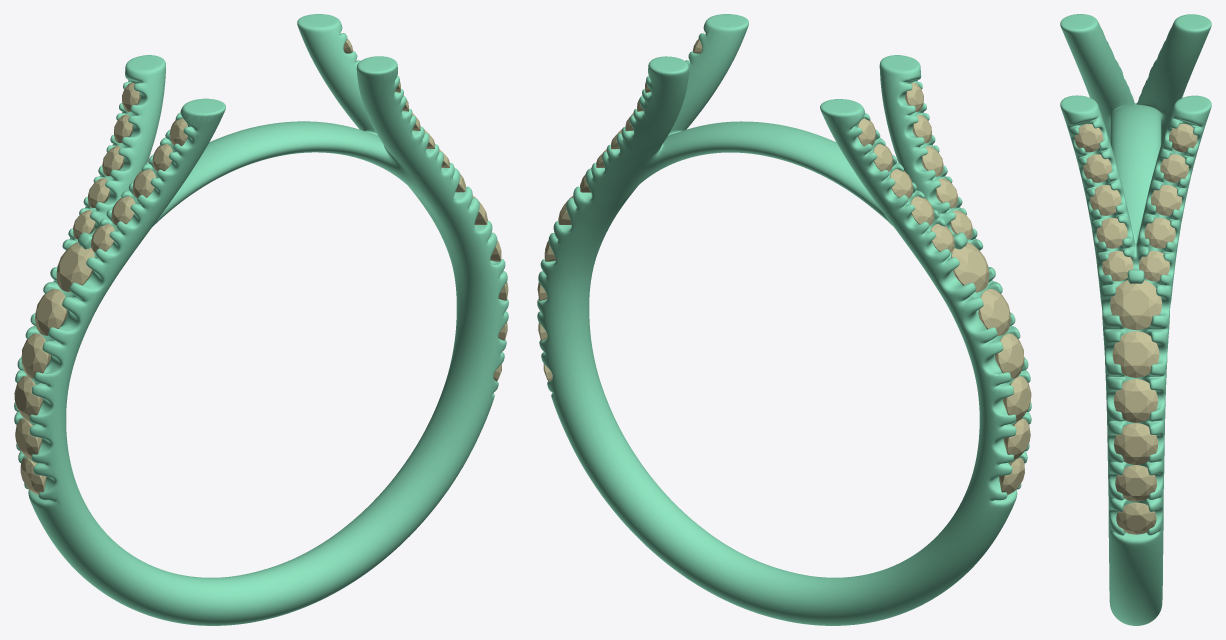
3 views of the same model, side by side, from view 1: azimuth 30°, elevation 25°; view 2: azimuth 150°, elevation 25°; view 3: azimuth 270°, elevation 25° (orthographic). The views are drawn at different scales.
Visible parts, largest first — view 1: Metal02, Diamond_Gem.005, Diamond_Gem.006, Diamond_Gem.007, Diamond_Gem.008, Diamond_Gem.009; view 2: Metal02, Diamond_Gem.005, Diamond_Gem.006, Diamond_Gem.007, Diamond_Gem.008, Diamond_Gem.009; view 3: Metal02, Diamond_Gem.026, Diamond_Gem.025, Diamond_Gem.024, Diamond_Gem.023, Diamond_Gem.022, Diamond_Gem.021, Diamond_Gem.017, Diamond_Gem.030, Diamond_Gem.018, Diamond_Gem.029, Diamond_Gem.016 (+5 smaller).
Boxes of the visible parts, <box> form: Metal02: <box>14,14,508,625</box>; Diamond_Gem.005: <box>56,242,94,291</box>; Diamond_Gem.006: <box>35,288,67,335</box>; Diamond_Gem.007: <box>21,333,50,378</box>; Diamond_Gem.008: <box>14,376,42,421</box>; Diamond_Gem.009: <box>15,418,41,459</box>; Metal02: <box>537,14,1031,625</box>; Diamond_Gem.005: <box>951,242,989,292</box>; Diamond_Gem.006: <box>978,289,1010,335</box>; Diamond_Gem.007: <box>995,333,1024,378</box>; Diamond_Gem.008: <box>1003,376,1031,421</box>; Diamond_Gem.009: <box>1003,418,1030,459</box>; Metal02: <box>1060,14,1211,625</box>; Diamond_Gem.026: <box>1110,280,1161,329</box>; Diamond_Gem.025: <box>1112,331,1159,377</box>; Diamond_Gem.024: <box>1114,379,1157,422</box>; Diamond_Gem.023: <box>1114,423,1158,464</box>; Diamond_Gem.022: <box>1115,465,1156,501</box>; Diamond_Gem.021: <box>1116,502,1156,534</box>; Diamond_Gem.017: <box>1144,218,1175,248</box>; Diamond_Gem.030: <box>1096,218,1127,248</box>; Diamond_Gem.018: <box>1151,185,1181,215</box>; Diamond_Gem.029: <box>1090,185,1121,215</box>; Diamond_Gem.016: <box>1139,251,1169,281</box>.
Bounding box in the file's own units: 20.88 × 22.88 × 5.84.
